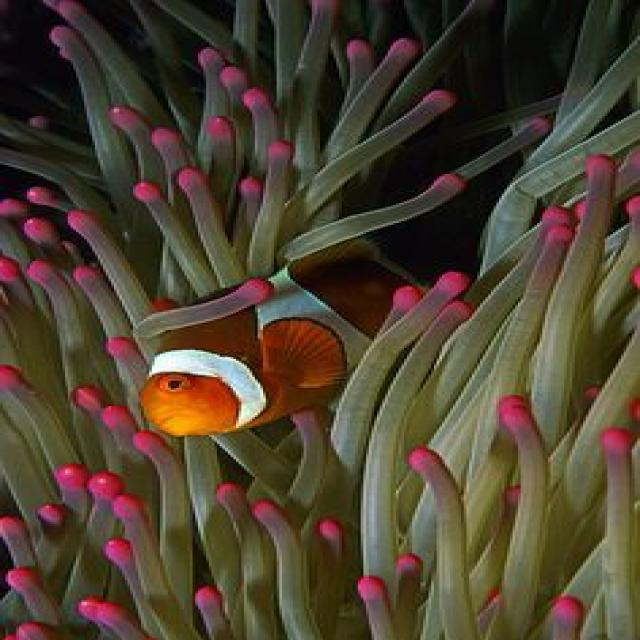ClownFish: (136, 241, 438, 446)
